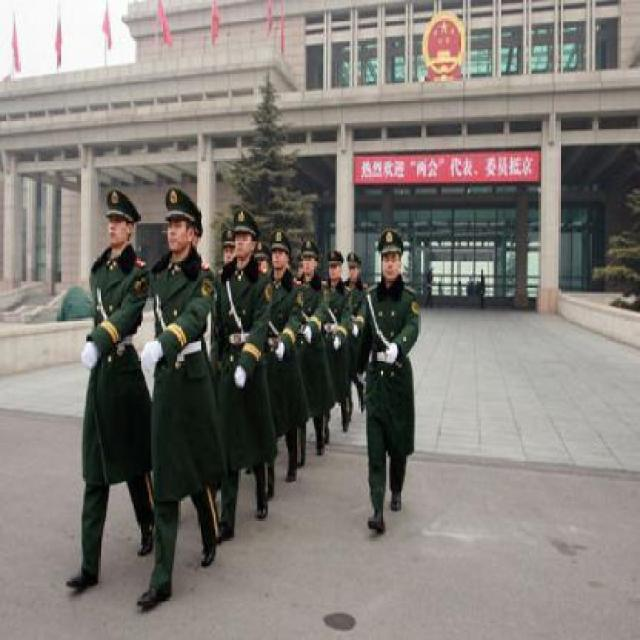face_nomask: (162, 220, 188, 252), (105, 214, 126, 252), (383, 251, 408, 278), (234, 235, 255, 260), (272, 249, 286, 271), (303, 254, 315, 278), (331, 264, 342, 282)
hand_glove: (138, 340, 162, 372), (78, 342, 97, 366), (231, 364, 246, 384), (385, 343, 397, 363), (276, 342, 284, 358), (303, 324, 312, 338), (332, 334, 340, 349), (352, 323, 358, 339)
person: (81, 186, 157, 605), (154, 183, 223, 591), (349, 224, 428, 530), (212, 214, 270, 517), (262, 231, 303, 497), (294, 232, 324, 465), (318, 246, 348, 434)
shoes: (133, 577, 176, 612), (63, 561, 102, 593), (361, 505, 394, 537), (194, 532, 220, 572), (383, 483, 406, 515)
